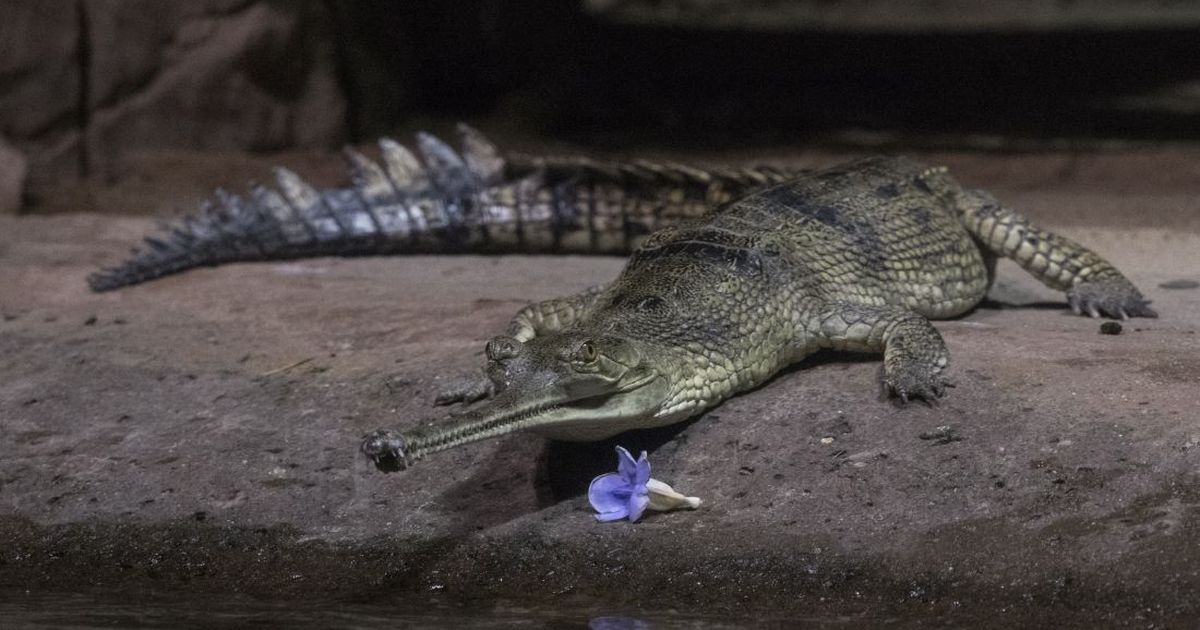Crocodile: (83, 112, 1186, 482)
